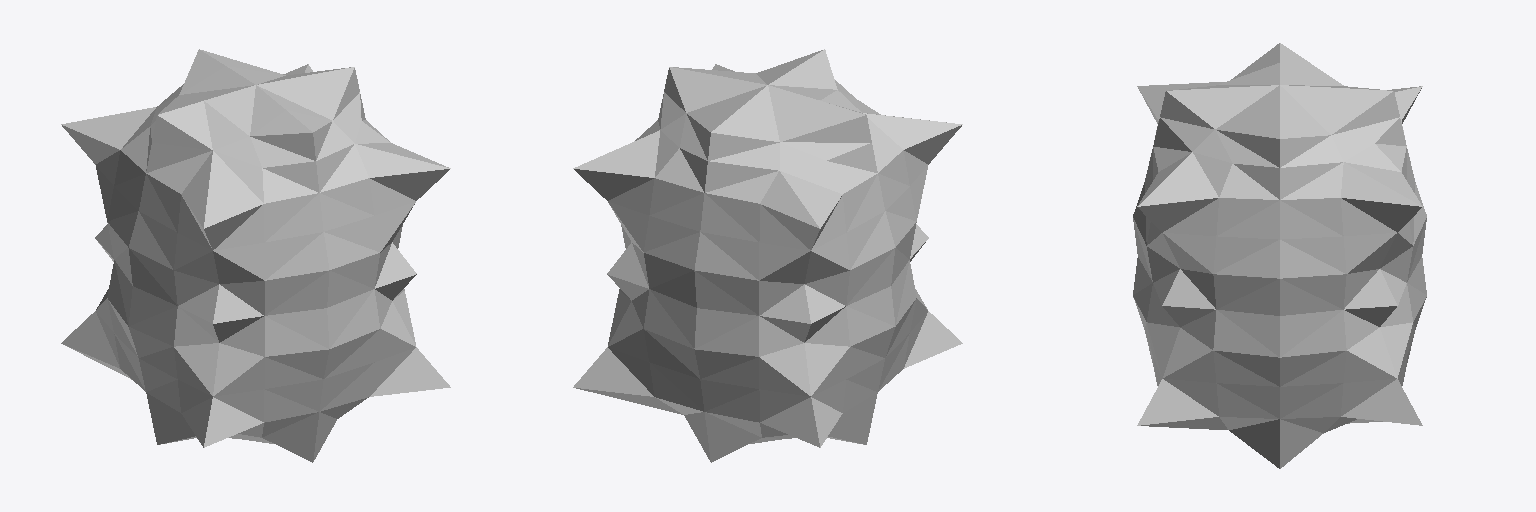
The model's file is HeavyPlasmaTankLOD0.obj.
The picture shows the model from 3 angles: view 1: azimuth 30°, elevation 25°; view 2: azimuth 150°, elevation 25°; view 3: azimuth 270°, elevation 25°; orthographic projection.
Parts seen in each view (by area): view 1: Cube_Cube.001; view 2: Cube_Cube.001; view 3: Cube_Cube.001.
Part boxes in pixels (x1,y1,x2,y2): Cube_Cube.001: (61,49,450,462); Cube_Cube.001: (573,49,962,462); Cube_Cube.001: (1133,43,1426,468).
Size of the model in its own units: 1.88 by 2.4 by 1.88.